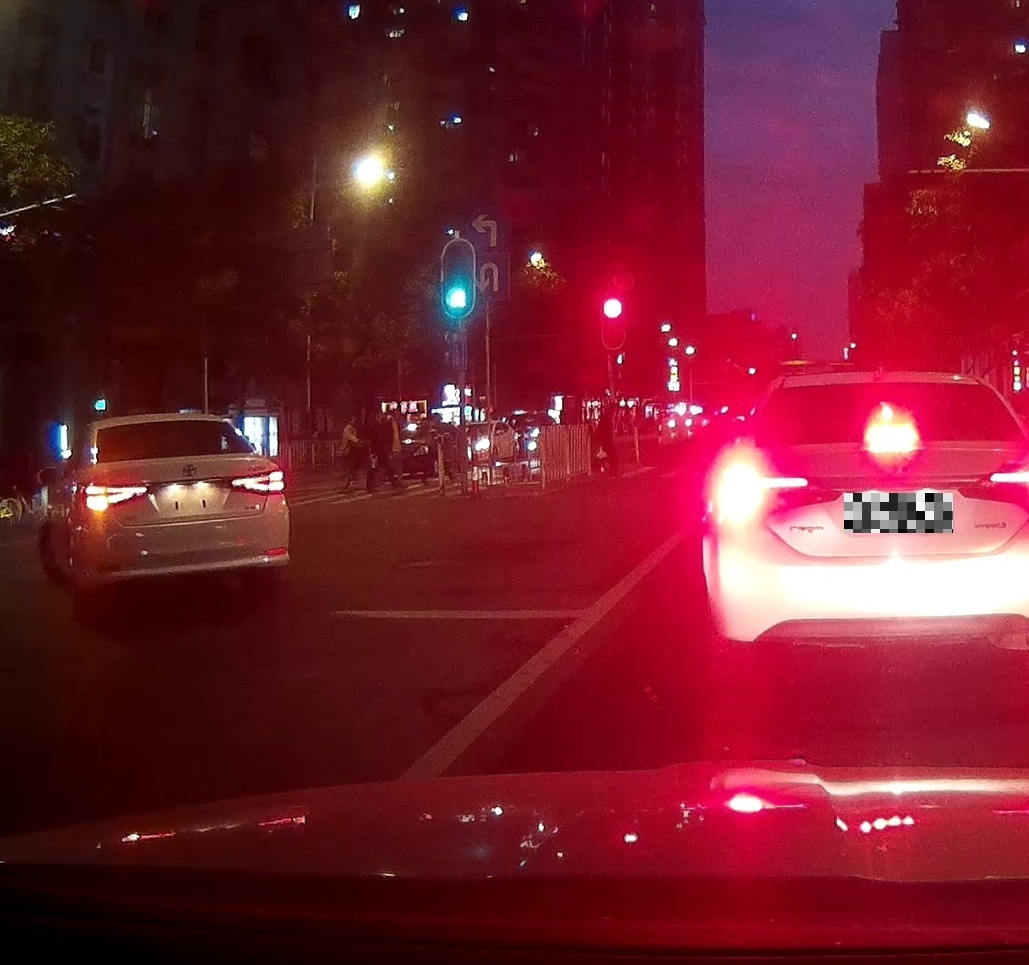L_light: (713, 468, 808, 512), (83, 480, 148, 512)
R_light: (990, 468, 1029, 512), (229, 469, 285, 495)
T_light: (865, 424, 920, 443), (152, 421, 182, 428)
night-brake: (702, 368, 1029, 688)
night-left: (78, 412, 289, 618)
plate_1: (844, 493, 953, 533)
